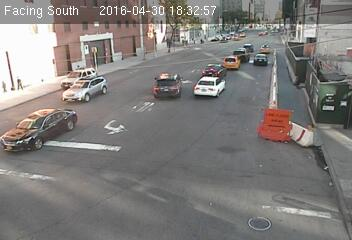neg: (85, 44, 97, 61), (160, 36, 170, 49)
pos: (11, 74, 23, 90)
